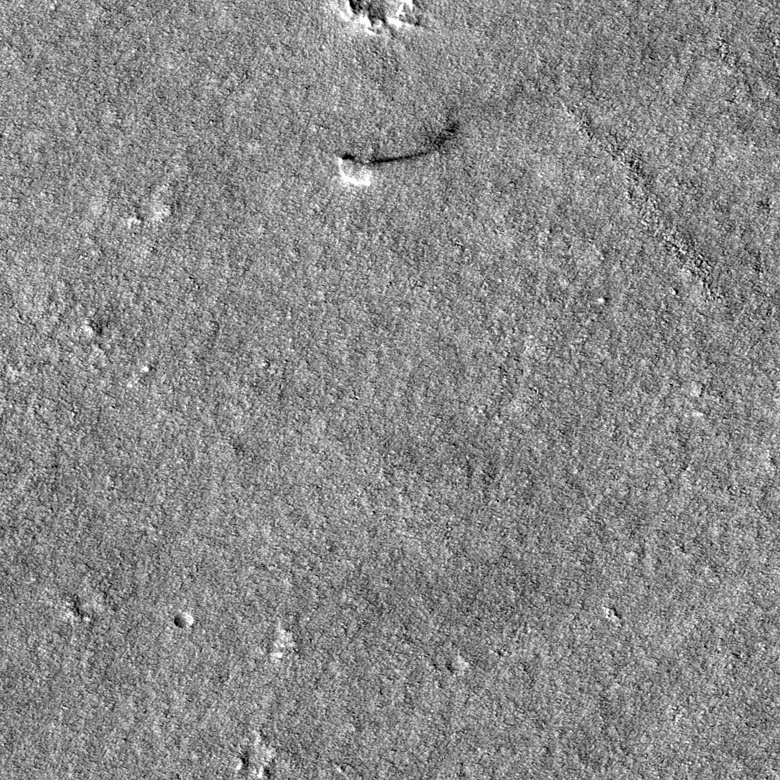dust_devil: (333, 116, 464, 191)
